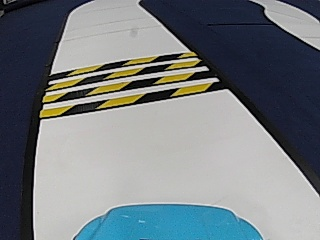bump: (59, 53, 194, 114)
